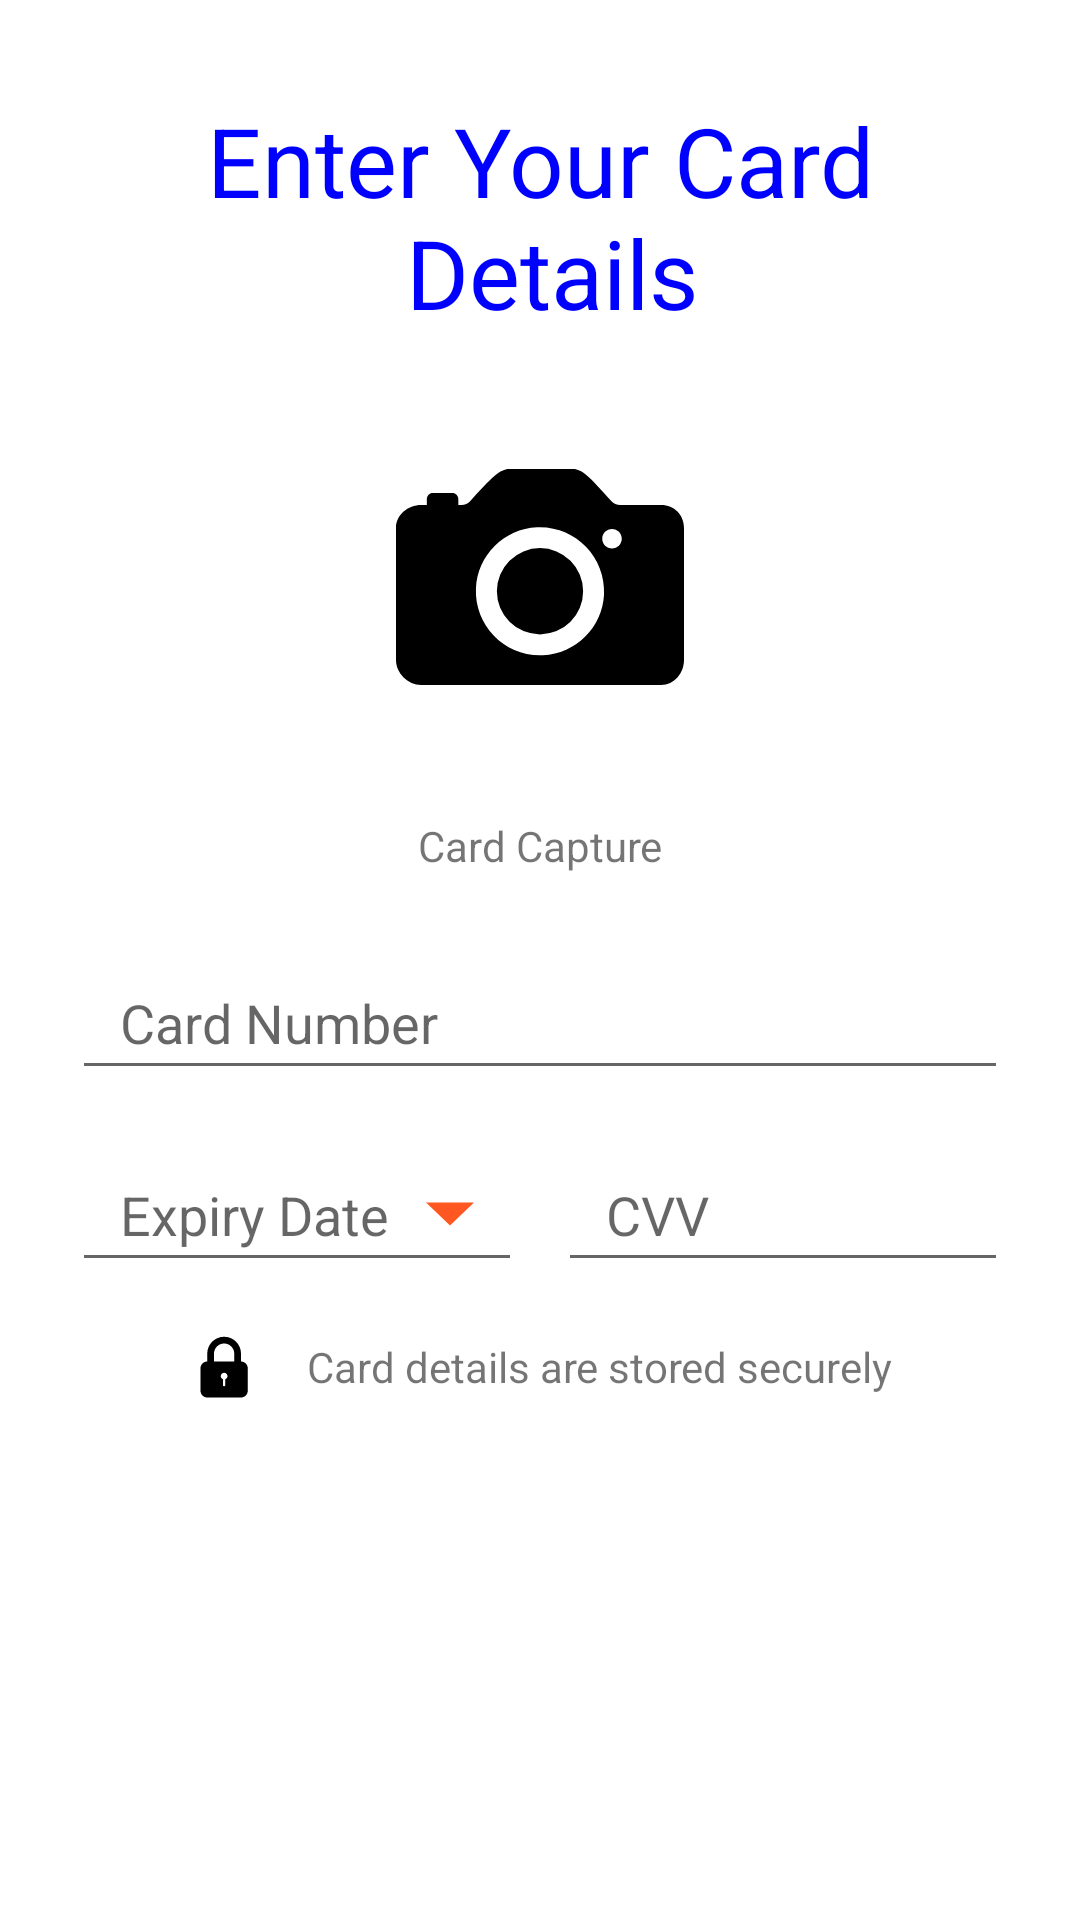

Screen size 1080 × 1920. Icon name, then its box in pixels as (x1, y1, x2, y2):
camera: (396, 469, 684, 685)
